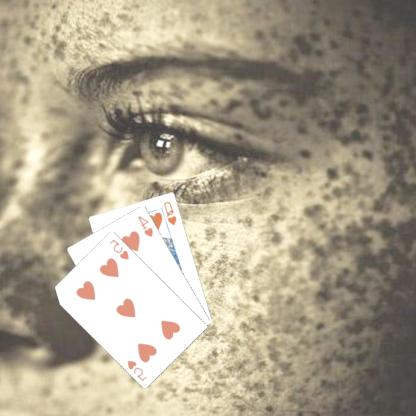4H: (137, 213, 156, 238)
5H: (126, 357, 150, 382), (108, 236, 132, 260)
QH: (162, 198, 180, 227)
